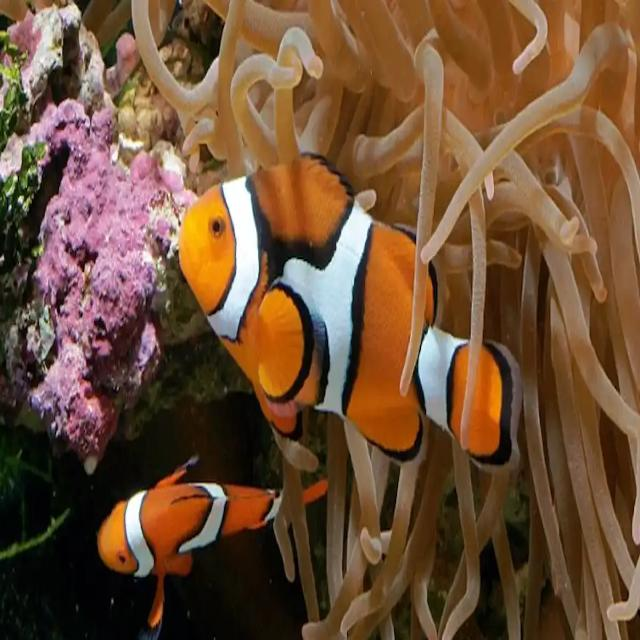ClownFish: (177, 151, 520, 473), (99, 462, 328, 584)
